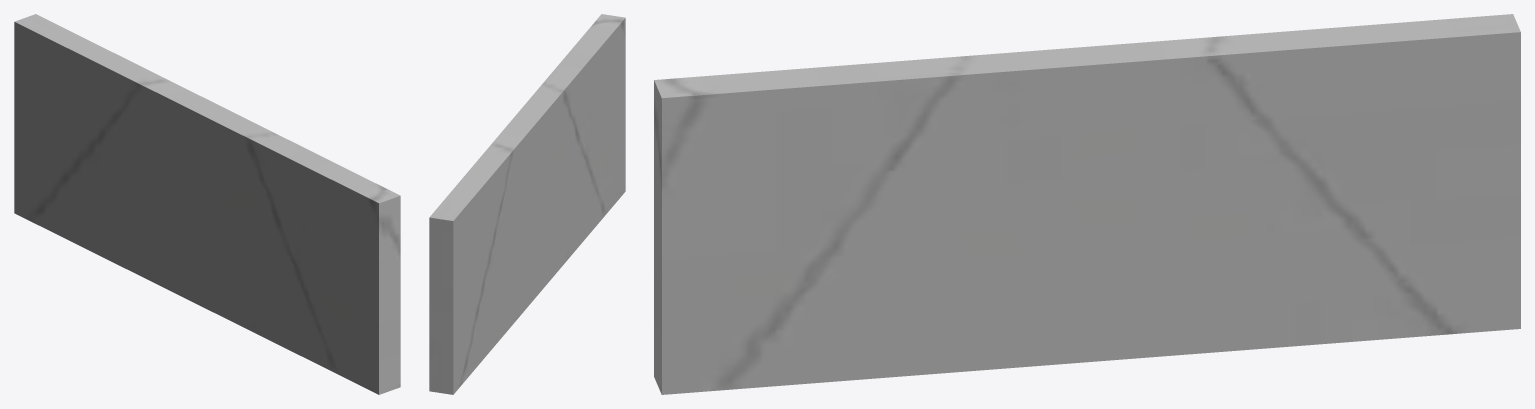
File: fan_wheel__fan_blade_6.glb
3 renders of one model, left to right at view 1: azimuth 30°, elevation 25°; view 2: azimuth 150°, elevation 25°; view 3: azimuth 270°, elevation 25°, orthographic. The views are drawn at different scales.
Visible parts, largest first — view 1: geometry_0; view 2: geometry_0; view 3: geometry_0.
Boxes of the visible parts, x1=… form: geometry_0: x1=14, y1=14, x2=400, y2=394; geometry_0: x1=429, y1=14, x2=625, y2=394; geometry_0: x1=654, y1=14, x2=1520, y2=394.
Bounding box in the file's own units: 0.0365 × 0.06 × 0.1588.
1 material, 1 textured.
